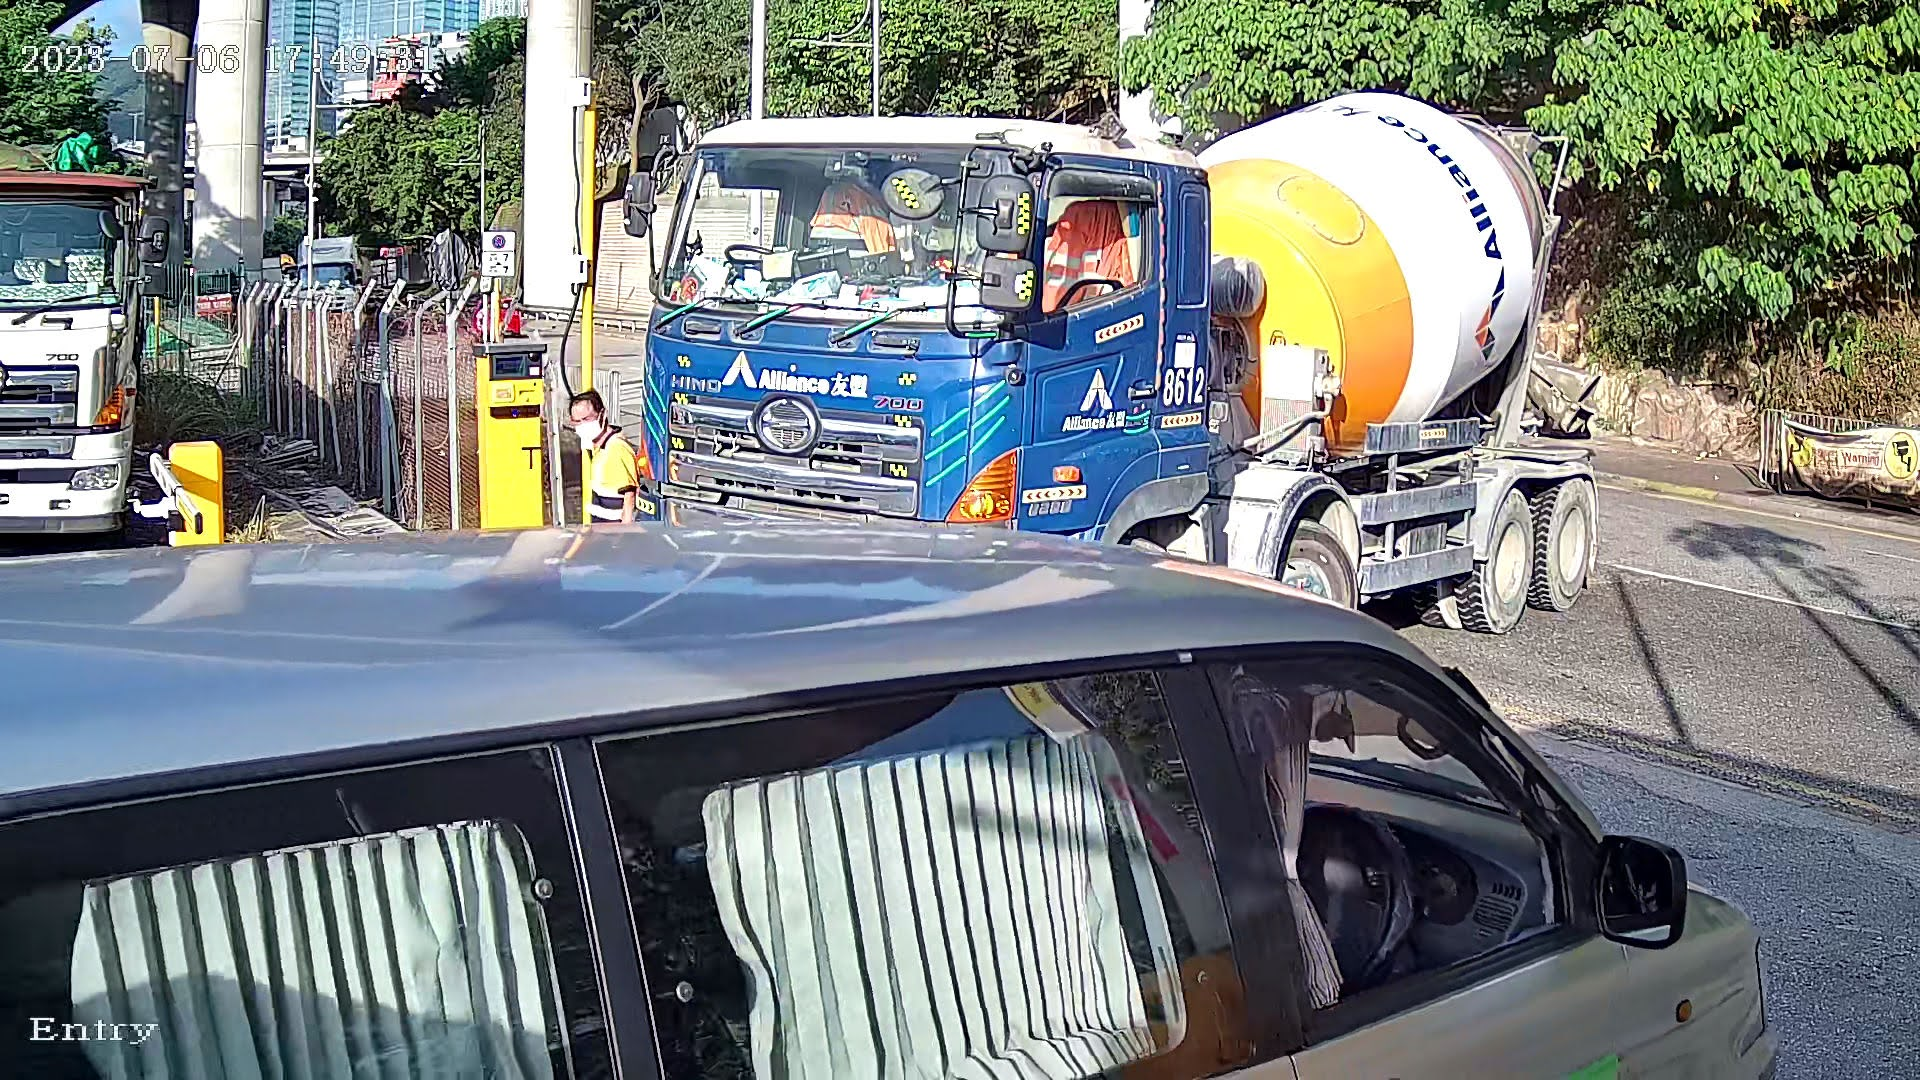truck: (566, 22, 1683, 696)
